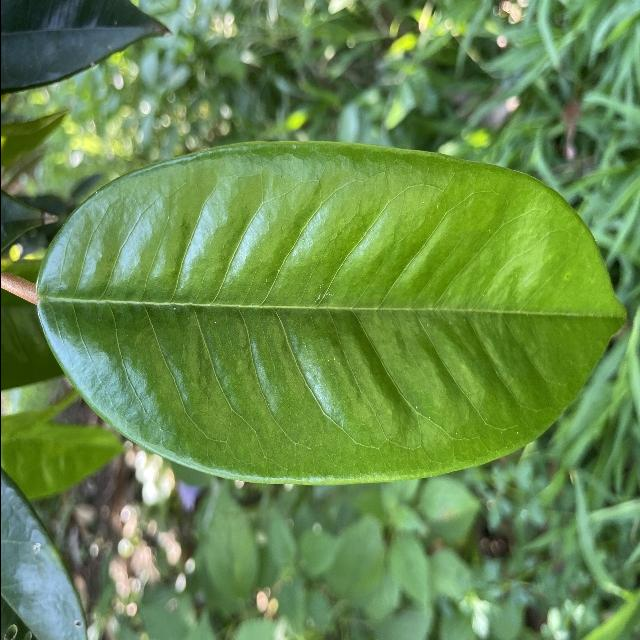No Disease: (23, 129, 640, 493)
